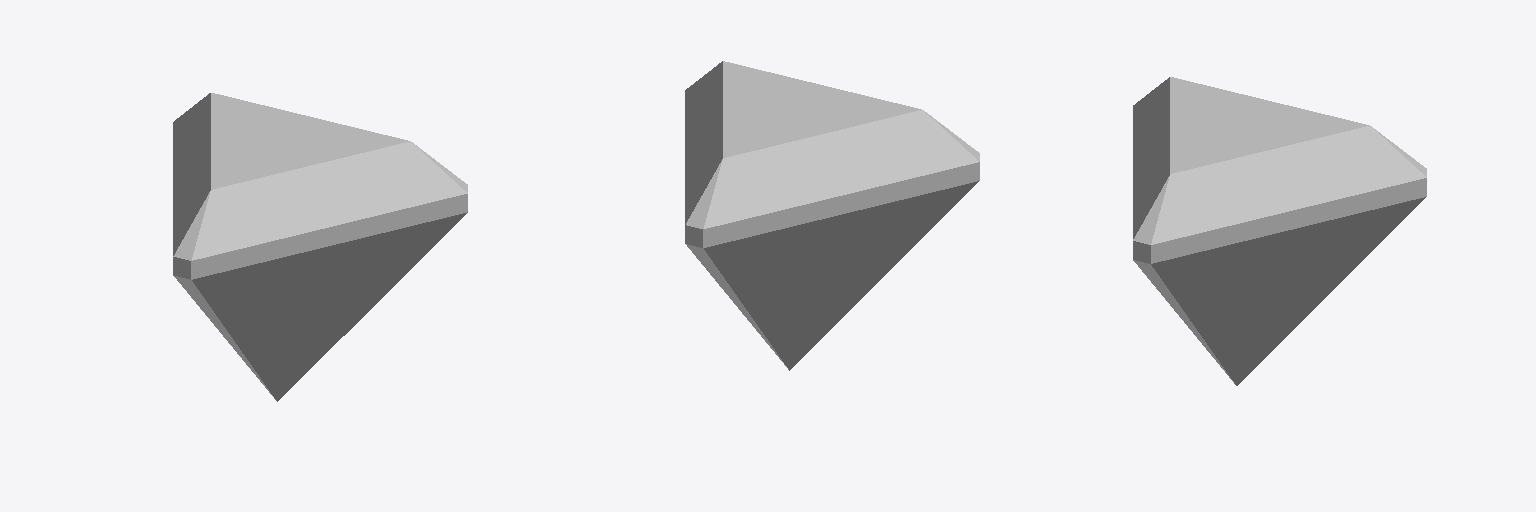
Rendered from 3-old-single-cut.obj.
3 renders of one model, left to right at view 1: azimuth 30°, elevation 25°; view 2: azimuth 150°, elevation 25°; view 3: azimuth 270°, elevation 25°, orthographic.
Visible parts, largest first — view 1: gem_Cylinder; view 2: gem_Cylinder; view 3: gem_Cylinder.
Boxes of the visible parts, box(x1,y1,x2,y2) form: gem_Cylinder: box(173, 93, 467, 401); gem_Cylinder: box(685, 61, 979, 370); gem_Cylinder: box(1133, 77, 1426, 385).
Bounding box in the file's own units: 16.32 × 13.83 × 14.13.